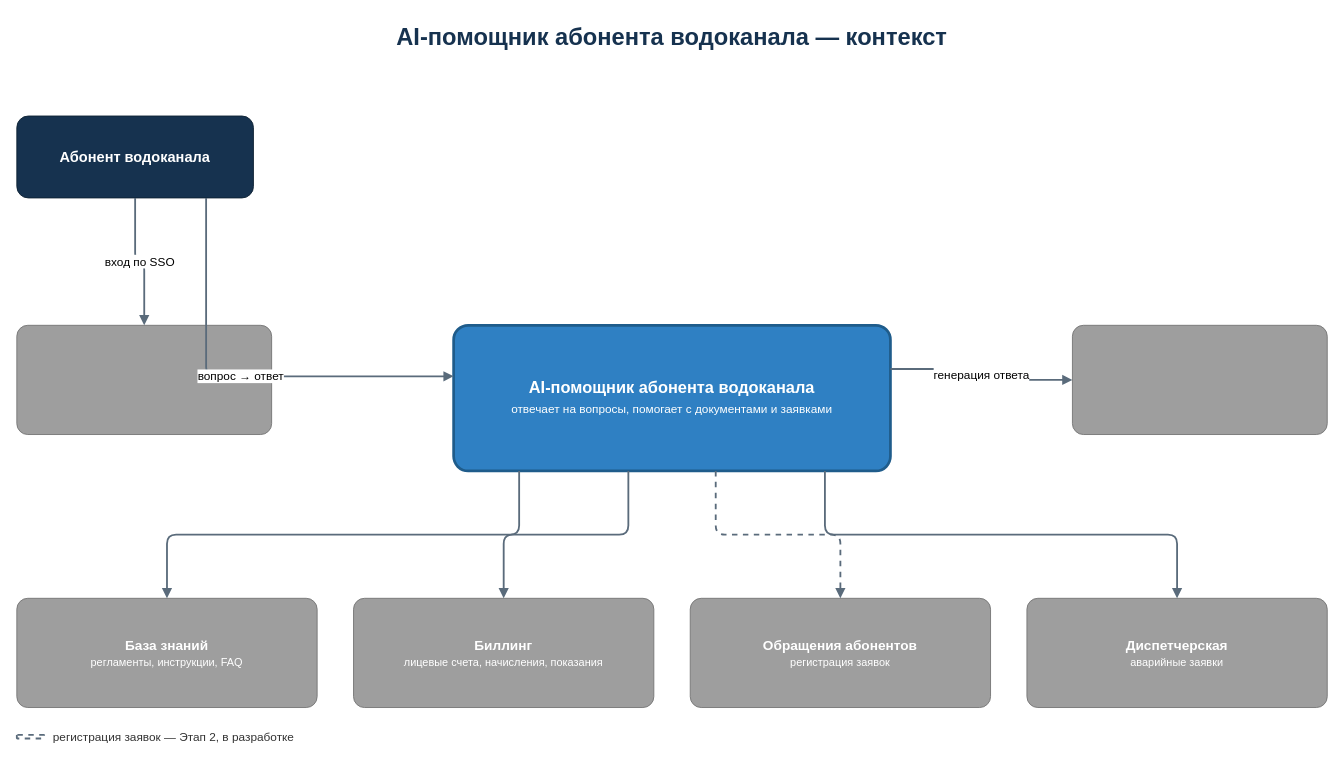
Image size: 1343x764. Some labels were removed from this diagram. Each missing label, with the box of its shape:
LLM Provider GigaChat / YandexGPT — генерация ответа: (1072, 324, 1327, 435)
Платформа ЛК вход, профиль абонента: (16, 324, 272, 435)
